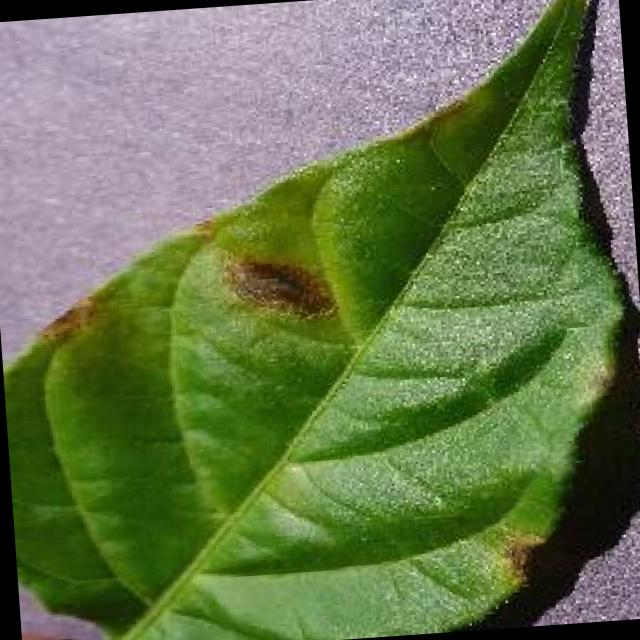Chilli_Bacterial_Spot: (0, 0, 640, 640), (220, 246, 337, 330), (498, 530, 544, 585)
